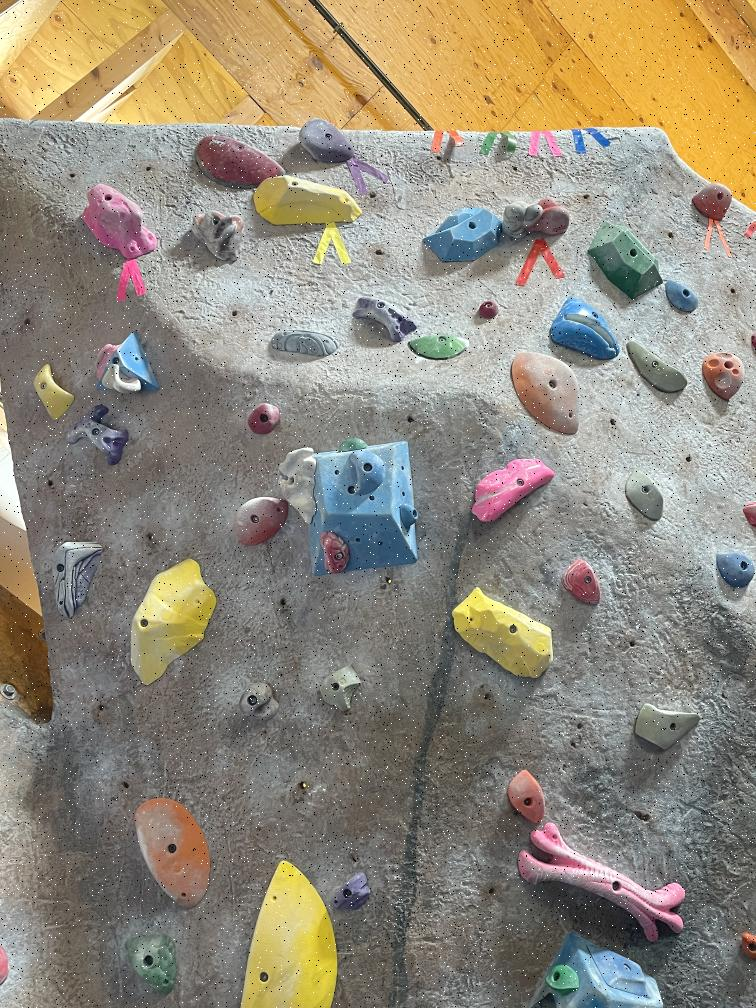Crimp: (312, 662, 374, 724), (589, 946, 651, 998), (235, 671, 282, 733), (547, 963, 580, 998), (336, 436, 375, 454)
Edges: (232, 851, 342, 1008), (170, 123, 290, 196), (560, 558, 613, 622), (501, 765, 556, 826), (331, 865, 376, 913)
Foothold: (118, 930, 191, 1008), (312, 524, 360, 583), (735, 924, 756, 966), (401, 503, 423, 532), (475, 298, 504, 319)
Jug: (507, 342, 591, 442), (626, 694, 702, 762), (625, 336, 693, 412), (271, 442, 329, 525), (620, 464, 681, 540), (678, 174, 743, 238), (228, 485, 288, 552), (289, 118, 363, 171), (22, 365, 80, 422), (351, 294, 416, 343), (406, 330, 478, 368), (97, 355, 151, 404), (344, 454, 396, 496), (713, 547, 756, 595), (236, 403, 290, 438), (665, 276, 703, 320)
Pinch: (532, 822, 699, 945), (266, 323, 346, 367)
Pocket: (552, 290, 621, 364), (698, 344, 746, 413)
Sloper: (113, 555, 223, 697), (442, 576, 556, 704), (119, 797, 230, 917), (73, 184, 166, 275), (457, 459, 575, 530), (255, 174, 366, 245), (44, 536, 117, 635), (577, 214, 667, 294), (56, 399, 140, 467), (420, 204, 506, 270), (182, 204, 252, 284), (502, 194, 581, 252)
